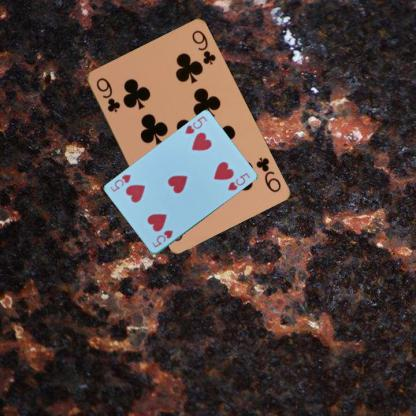5h: (182, 114, 208, 136), (149, 228, 175, 249)
9c: (252, 154, 282, 194), (93, 74, 121, 114)
